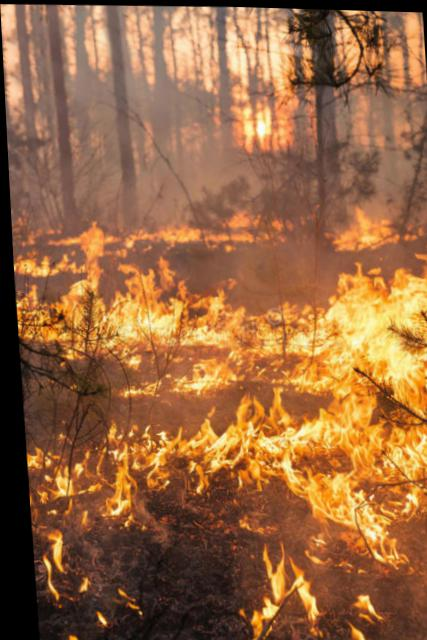fire: (11, 197, 425, 639)
